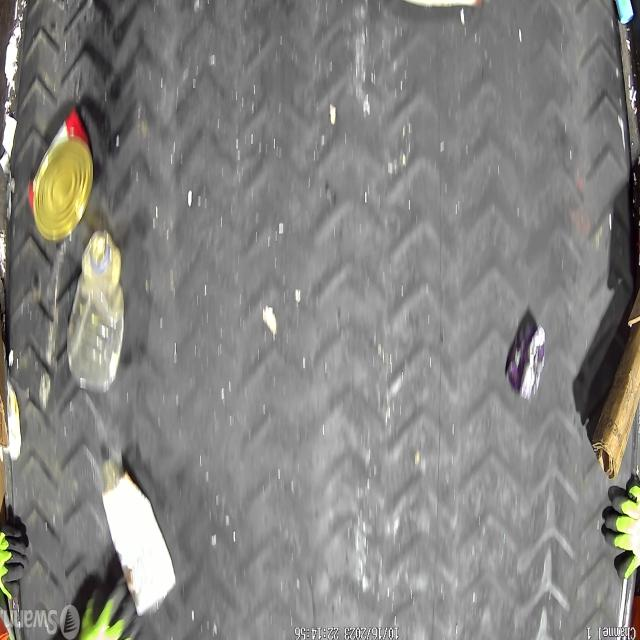can: (28, 111, 92, 241)
